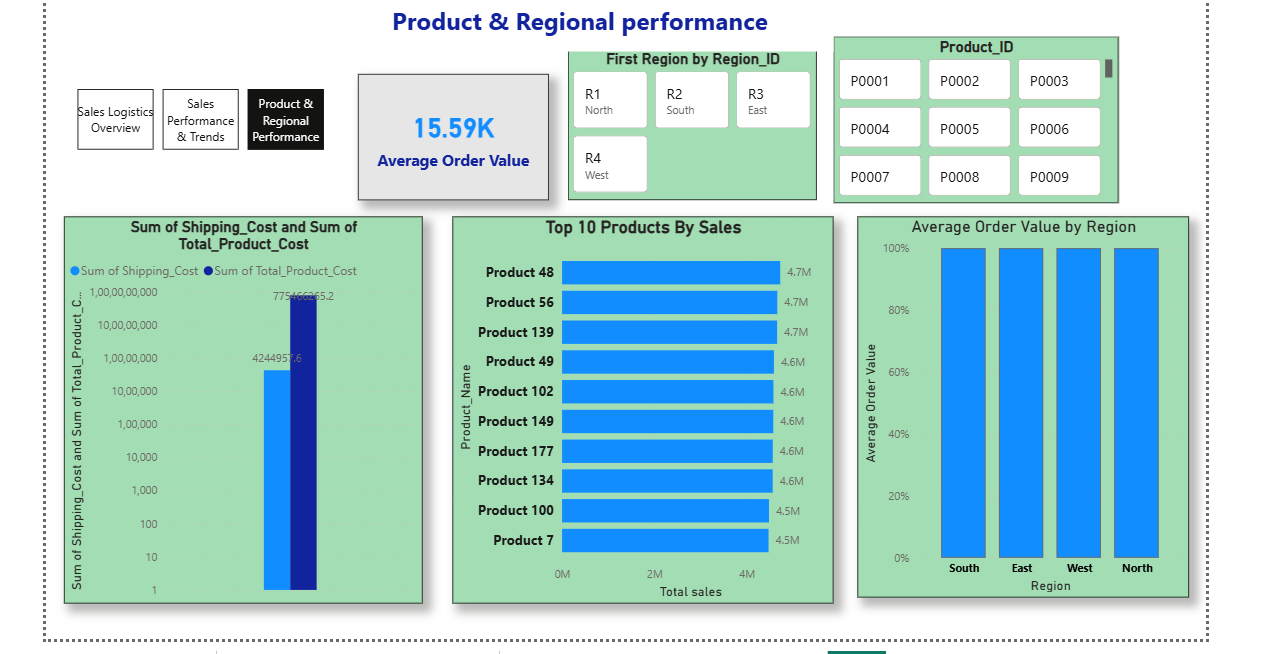

What the dashboard file says about the page in this screenshot:
{"tool":"powerbi","page":{"name":"Product & Regional Performance","canvas":[1280,720],"ordinal":2},"visuals":[{"type":"barChart","title":"Top 10 Products By Sales","fields":{"Category":["dim_product.Product_Name"],"Y":["dim_product.Total sales"]},"box":[448.9,253.4,420.7,427.4],"z":0},{"type":"pageNavigator","box":[34.8,112.6,275,67.9],"z":1000},{"type":"clusteredColumnChart","fields":{"Y":["Sum(Supply chain logistics Orders.Shipping_Cost)","Sum(Supply chain logistics Orders.Total_Product_Cost)"]},"box":[19.9,253.4,395.9,427.4],"z":2000},{"type":"card","fields":{"Values":["dim_product.Average Order Value"]},"box":[344.5,96.1,210.4,139.1],"z":3000},{"type":"hundredPercentStackedColumnChart","fields":{"Category":["dim_region.Region"],"Y":["dim_product.Average Order Value"]},"box":[896.2,253.4,366.1,420.7],"z":4000},{"type":"advancedSlicerVisual","fields":{"Values":["dim_product.Product_ID"]},"box":[869.7,54.7,314.7,183.9],"z":5000},{"type":"advancedSlicerVisual","fields":{"Values":["dim_region.Region_ID"],"Label":["Min(dim_region.Region)"]},"box":[576.5,67.9,275,167.3],"z":6000},{"type":"textbox","box":[309.8,13.3,559.9,58],"z":7000}]}

Visuals, with their boxes on the page's 1280x720 design canvas (x1, y1, x2, y2). These are canvas units, not pixel positions in the 1279x654 screenshot, which may show the page scaled, cropped or inside an application window:
"Top 10 Products By Sales" barChart: [x1=449, y1=253, x2=870, y2=681]
pageNavigator: [x1=35, y1=113, x2=310, y2=180]
clusteredColumnChart - Sum(Supply chain logistics Orders.Shipping_Cost) x Sum(Supply chain logistics Orders.Total_Product_Cost): [x1=20, y1=253, x2=416, y2=681]
card - dim_product.Average Order Value: [x1=344, y1=96, x2=555, y2=235]
hundredPercentStackedColumnChart - dim_region.Region x dim_product.Average Order Value: [x1=896, y1=253, x2=1262, y2=674]
advancedSlicerVisual - dim_product.Product_ID: [x1=870, y1=55, x2=1184, y2=239]
advancedSlicerVisual - dim_region.Region_ID x Min(dim_region.Region): [x1=576, y1=68, x2=852, y2=235]
textbox: [x1=310, y1=13, x2=870, y2=71]
